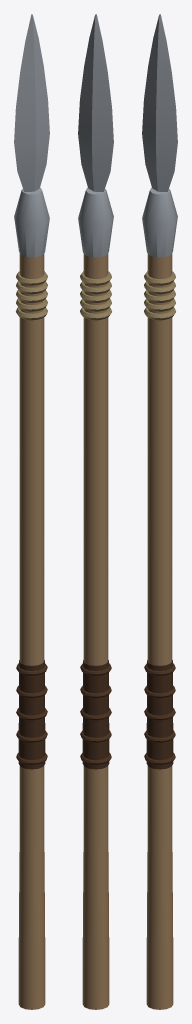
Rendered from melee_spear_stone.fbx.
3 views of the same model, side by side, from view 1: azimuth 30°, elevation 25°; view 2: azimuth 150°, elevation 25°; view 3: azimuth 330°, elevation 25° (orthographic).
Parts seen in each view (by area): view 1: Handle, ToolHead; view 2: Handle, ToolHead; view 3: Handle, ToolHead.
Boxes of the visible parts, left/top/right/bottom form: Handle: left=16, top=253, right=47, bottom=1009; ToolHead: left=14, top=14, right=49, bottom=257; Handle: left=80, top=253, right=111, bottom=1009; ToolHead: left=78, top=14, right=113, bottom=257; Handle: left=144, top=253, right=175, bottom=1009; ToolHead: left=142, top=14, right=177, bottom=257.
Bounding box in the file's own units: 0.076 × 2 × 0.0628.
